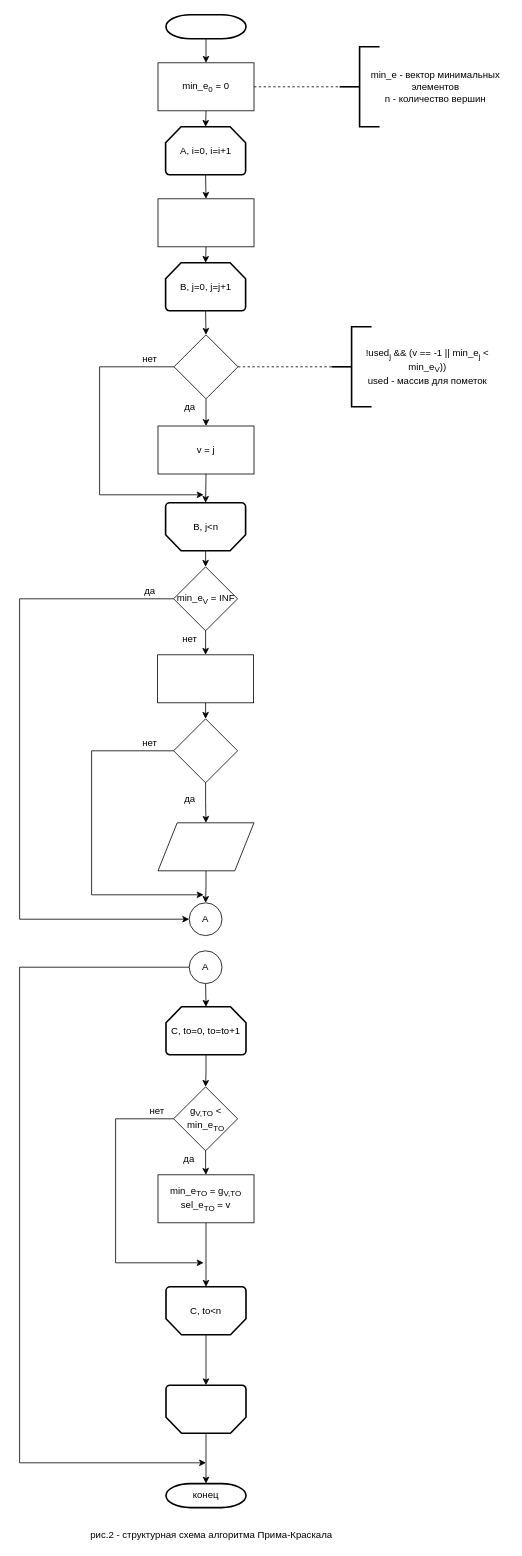
Some shapes in this 522 by 1556 pixel diagram are drawn without their labels. The centre of each missing label's shape, as x and y in pixels:
"A, i<n" goes at pixel 205 1409.
"sel_e V != -1" goes at pixel 205 750.
"used V = true" goes at pixel 205 678.
"v = -1" goes at pixel 205 222.
"Вывод v и sel_e V" goes at pixel 205 846.
"начало" goes at pixel 205 26.
